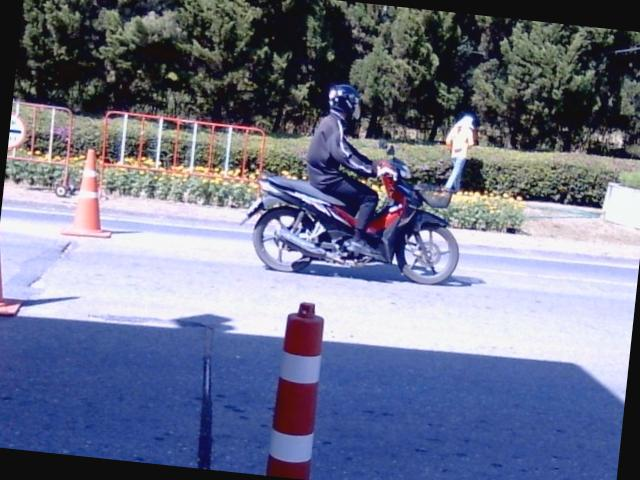helmet: (328, 81, 360, 121)
motor: (240, 156, 458, 284)
person: (307, 84, 393, 253)
